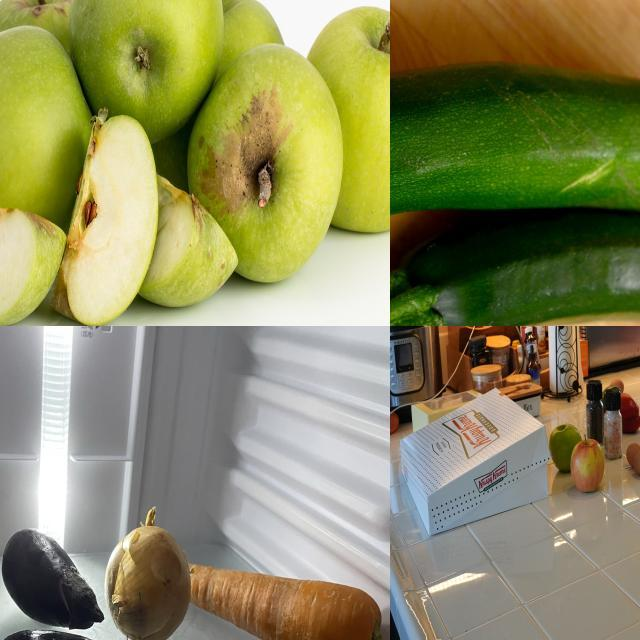bell_pepper: (587, 379, 603, 445), (620, 392, 640, 436)
carrot: (189, 559, 386, 640)
egg: (627, 441, 640, 468), (636, 449, 640, 480)
eggplant: (2, 532, 106, 633)
onion: (103, 520, 195, 640)
zucchini: (391, 49, 640, 243)
